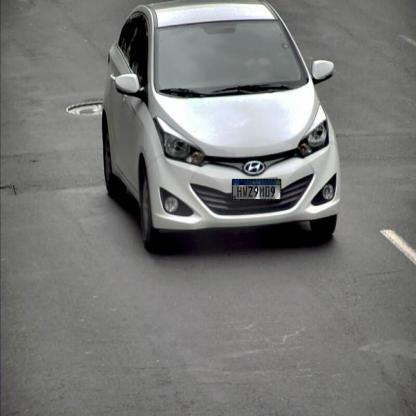PlacaM: (232, 179, 281, 200)
